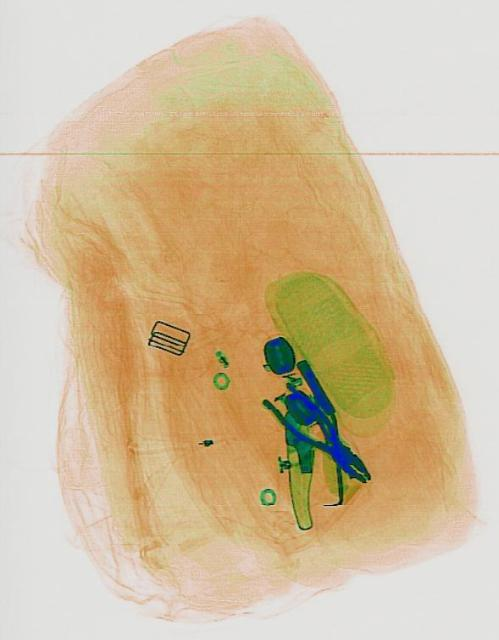Pliers: (258, 370, 379, 496)
